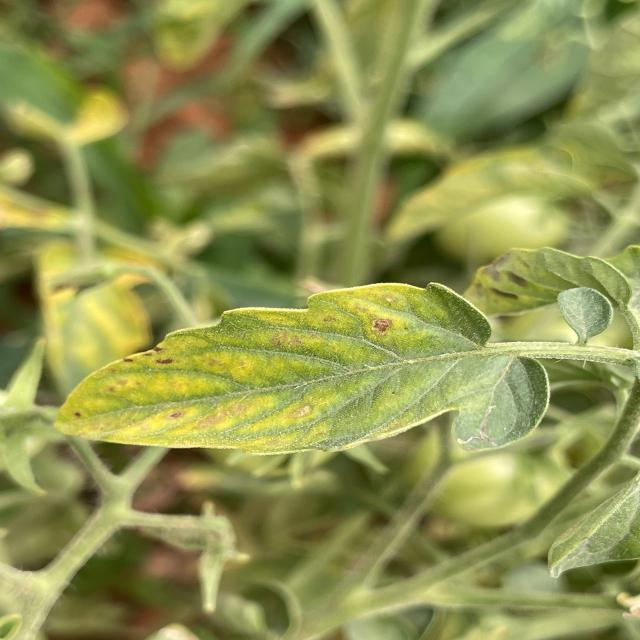tomato_early blight: (47, 280, 517, 456), (392, 142, 602, 250), (36, 248, 158, 408)
